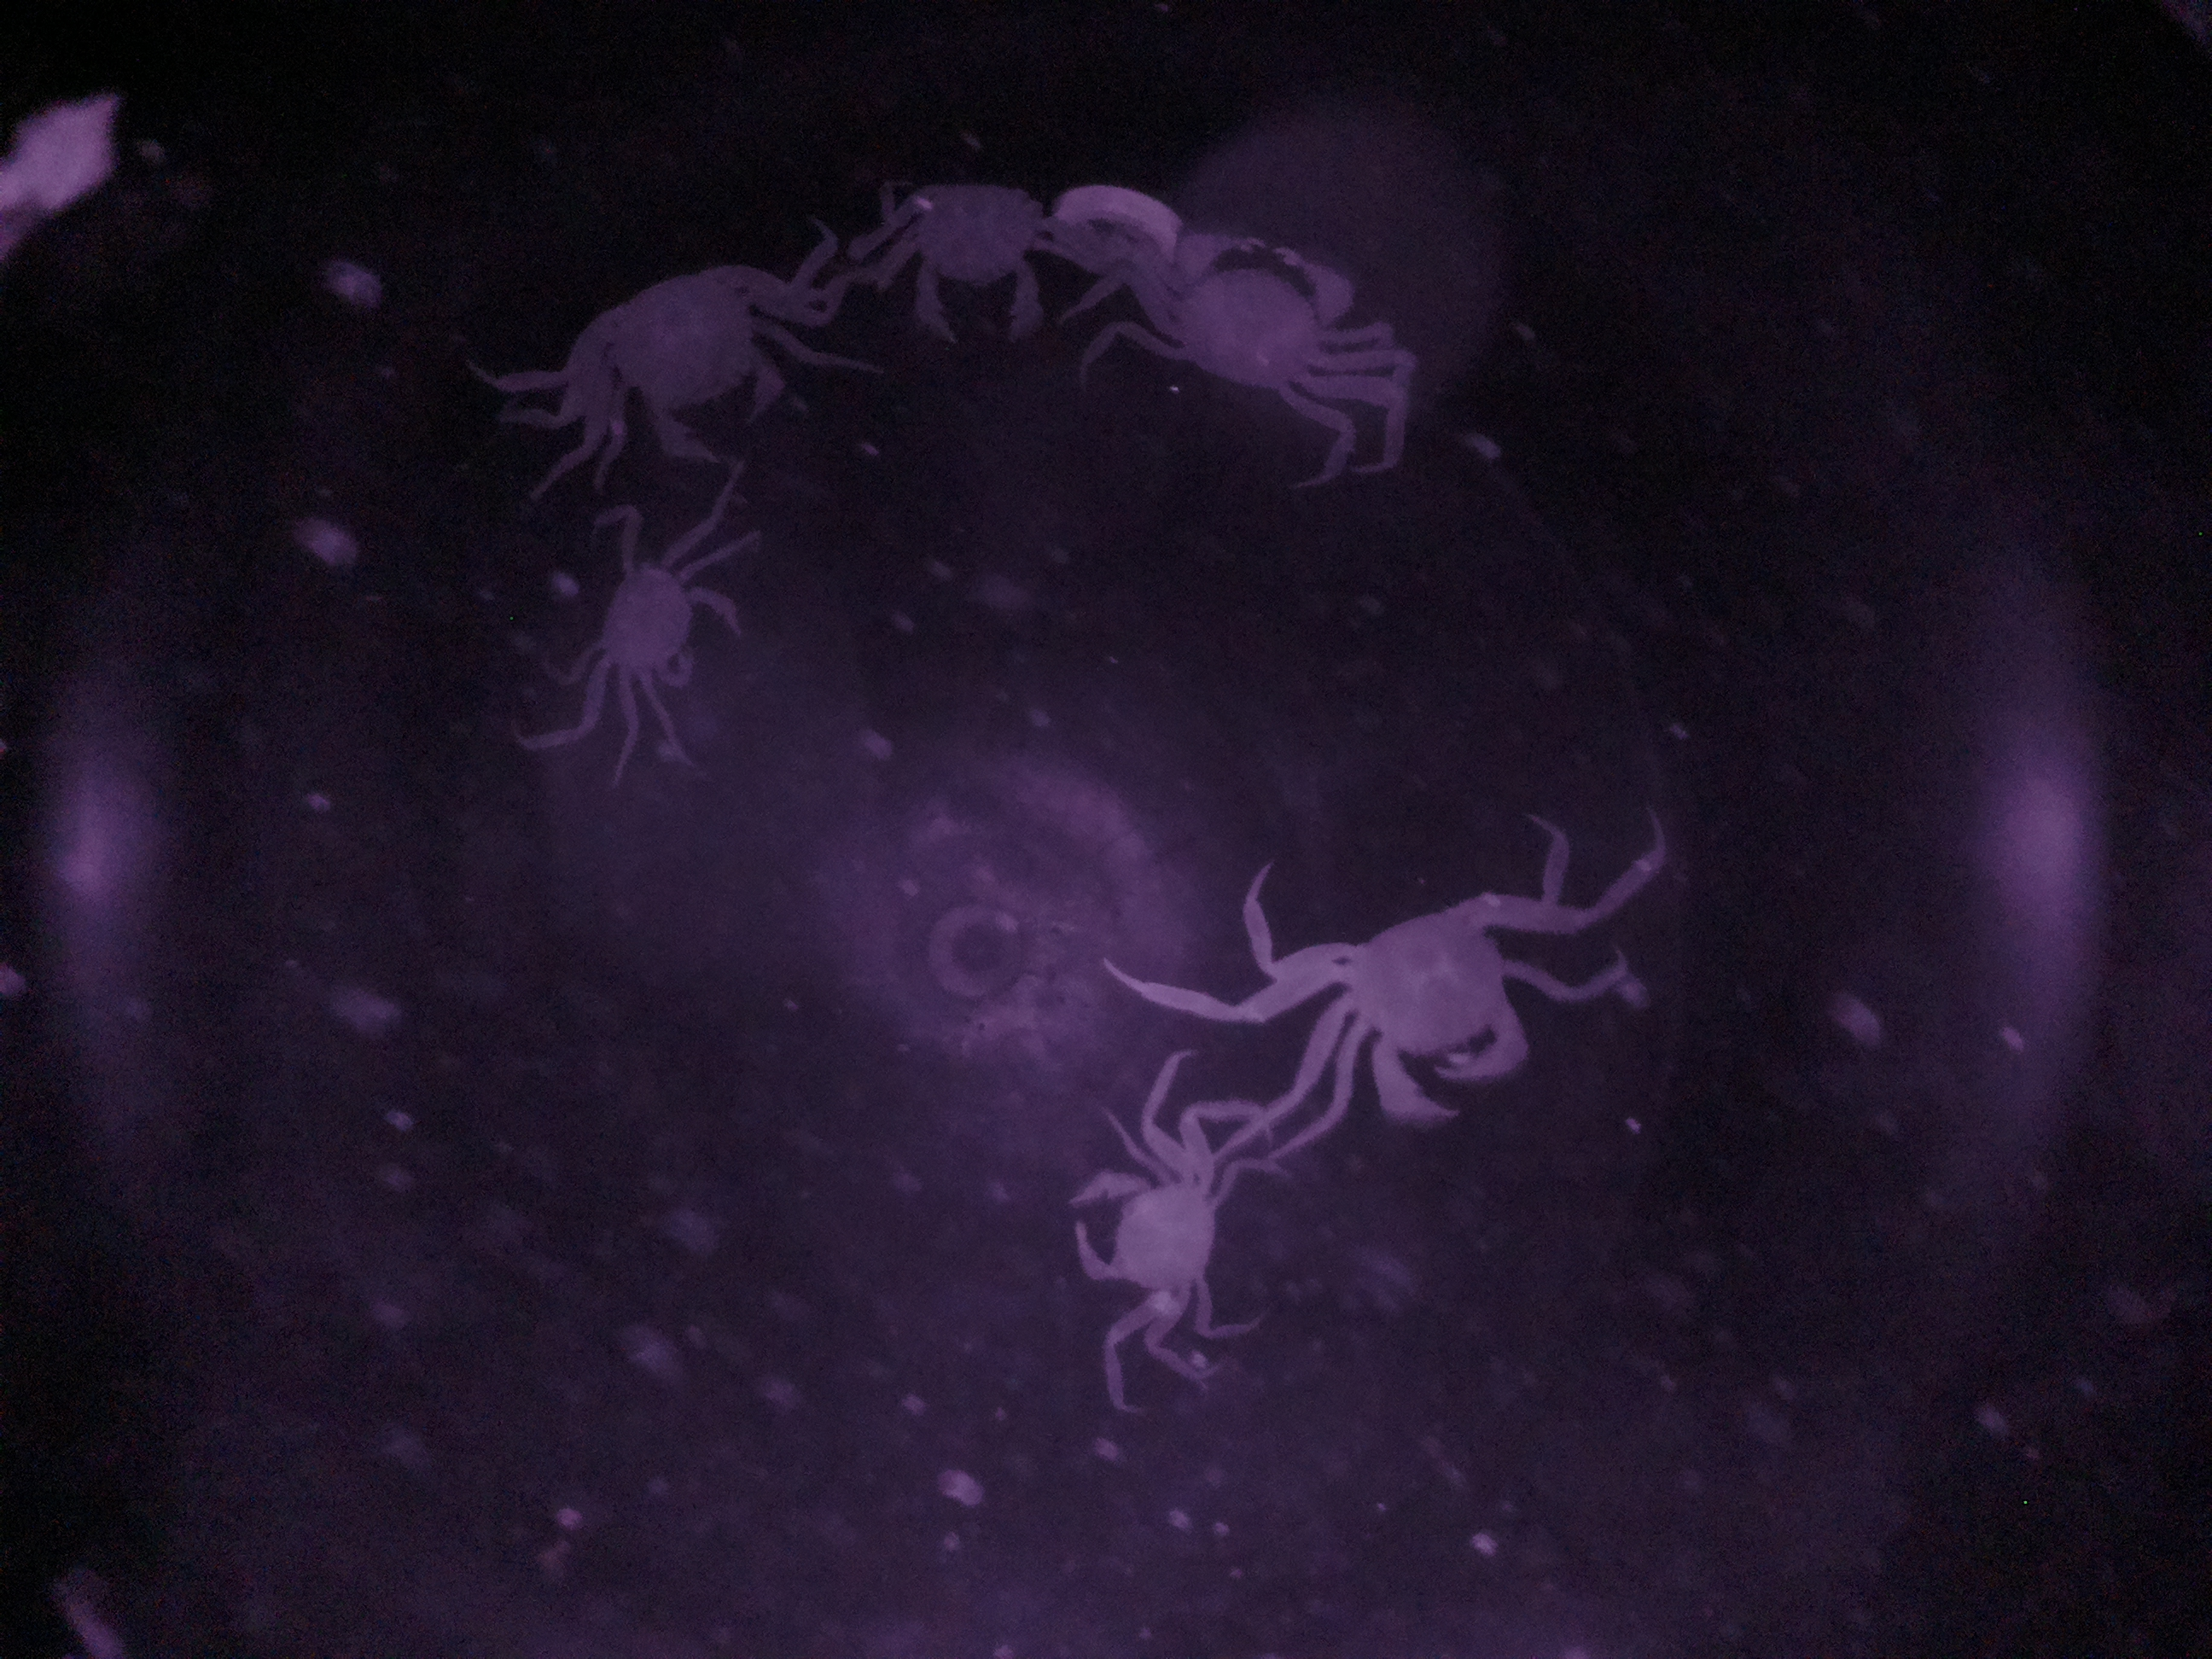Crab: (1291, 861, 1555, 1145), (589, 239, 812, 495), (1139, 220, 1374, 434), (557, 507, 749, 728), (1055, 1112, 1244, 1330), (888, 162, 1064, 368)
